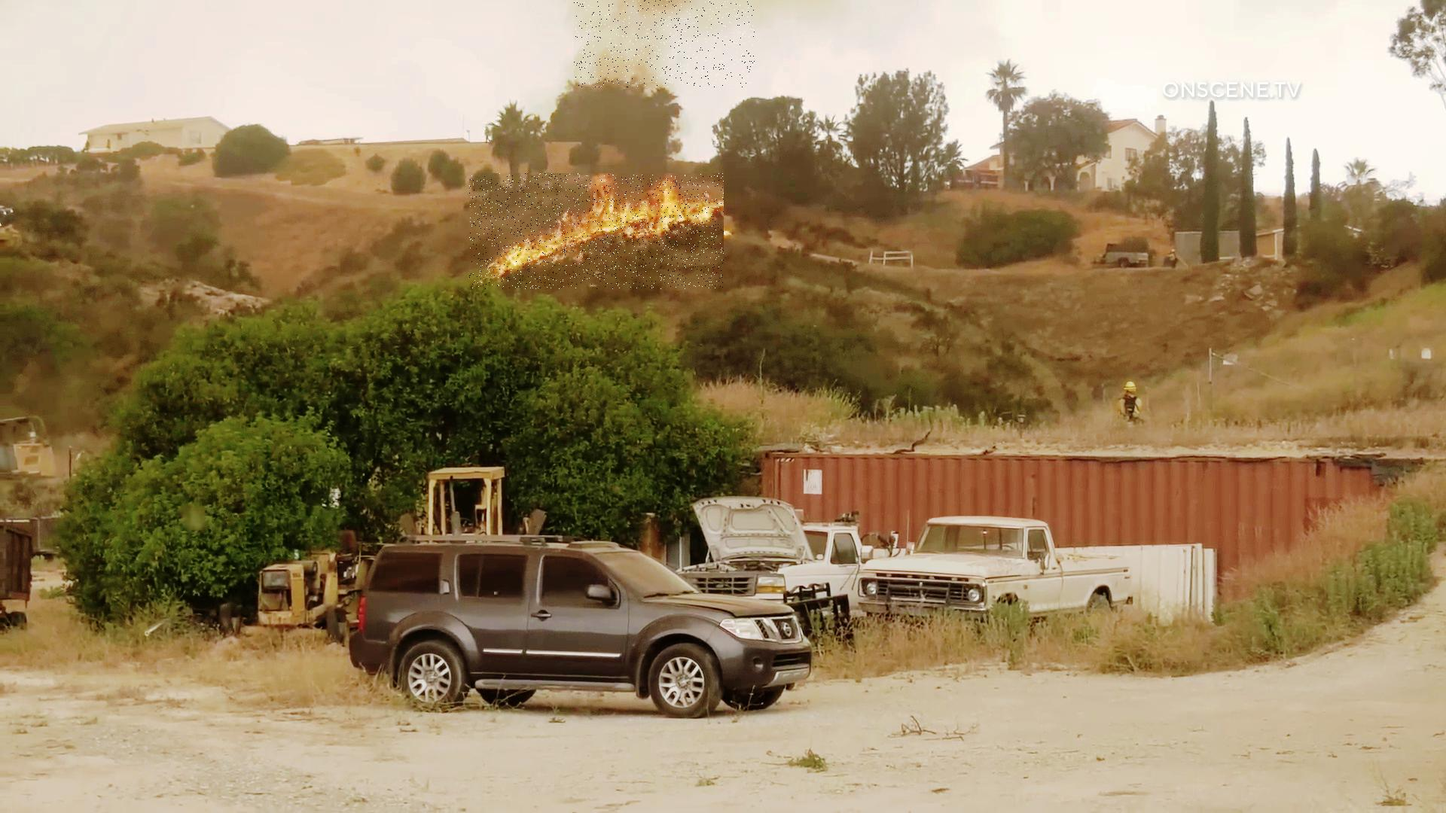fire: (469, 174, 724, 289)
smoke: (575, 0, 755, 87)
